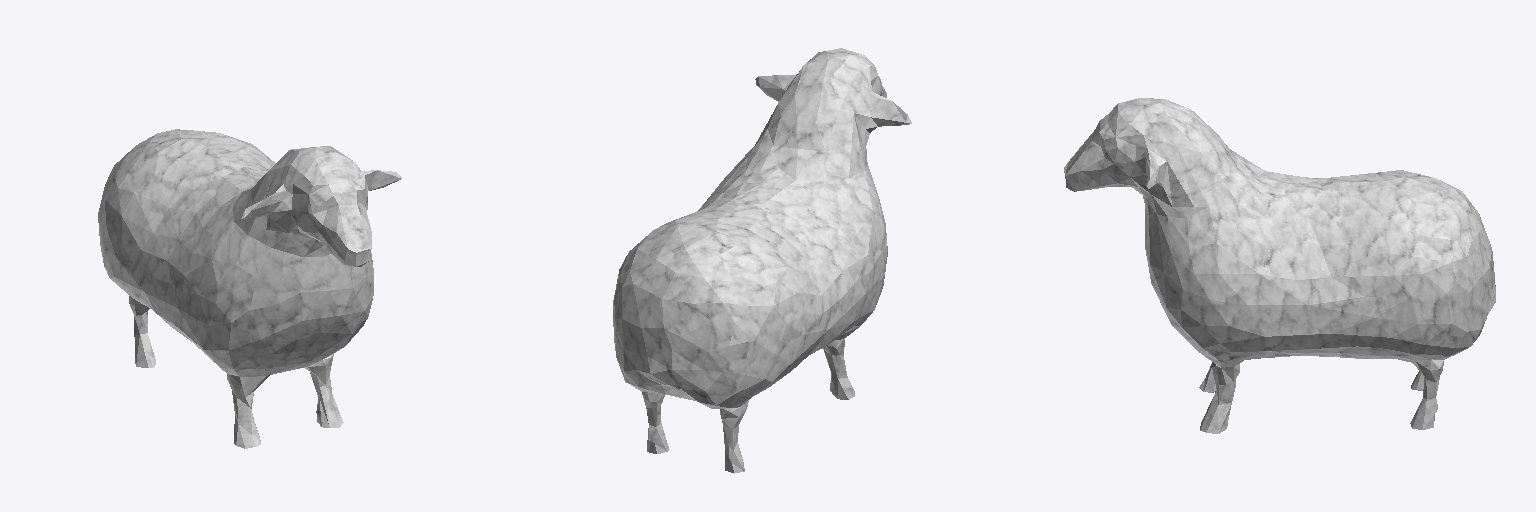
3 renders of one model, left to right at view 1: azimuth 30°, elevation 25°; view 2: azimuth 150°, elevation 25°; view 3: azimuth 270°, elevation 25°, orthographic.
Visible parts, largest first — view 1: Sheep_Low_Poly; view 2: Sheep_Low_Poly; view 3: Sheep_Low_Poly.
Boxes of the visible parts, x1,y1,x2,y2 form: Sheep_Low_Poly: [98, 129, 401, 448]; Sheep_Low_Poly: [613, 48, 911, 473]; Sheep_Low_Poly: [1064, 98, 1495, 433].
Size of the model in its own units: 1.5 by 2.5 by 3.2.
1 materials, 1 textured.